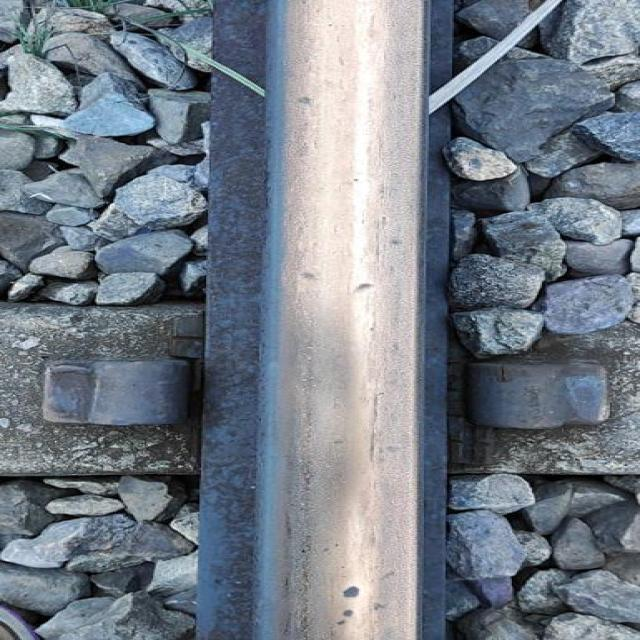head_checks_low: (316, 577, 371, 633)
